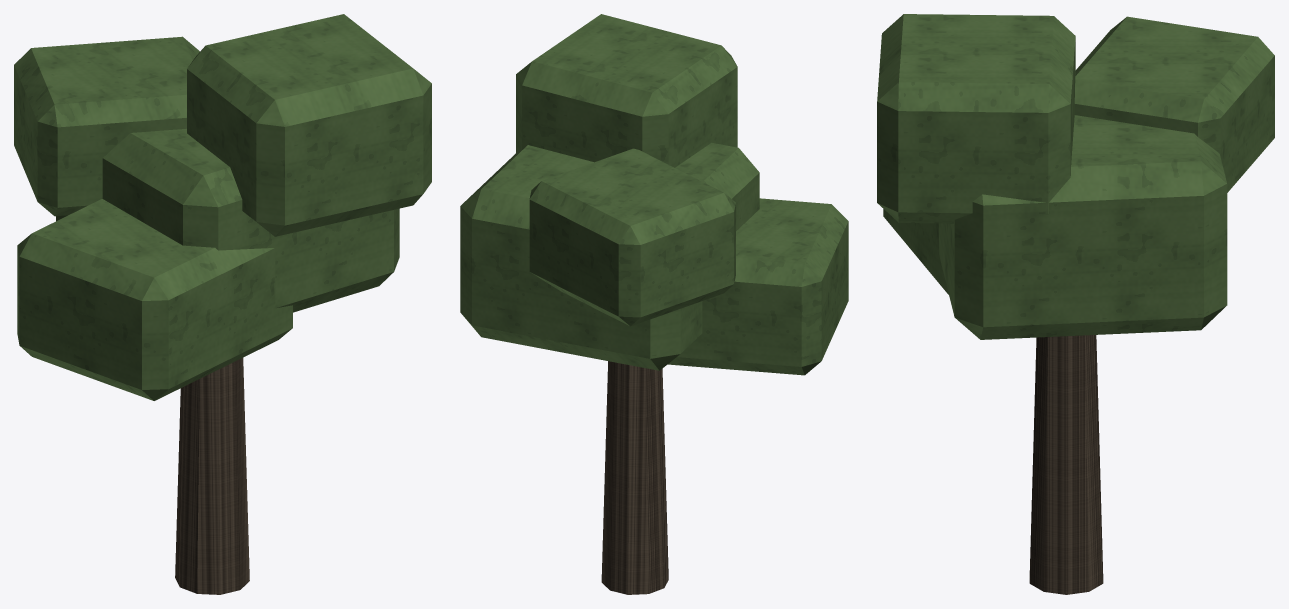
File: oak_tree_c.glb
The picture shows the model from 3 angles, left to right: view 1: azimuth 30°, elevation 25°; view 2: azimuth 150°, elevation 25°; view 3: azimuth 270°, elevation 25°; orthographic projection. The views are drawn at different scales.
Parts seen in each view (by area): view 1: OakTreeC; view 2: OakTreeC; view 3: OakTreeC.
Part boxes in pixels (bbox=[...]): OakTreeC: bbox=[14, 14, 431, 594]; OakTreeC: bbox=[460, 14, 848, 594]; OakTreeC: bbox=[877, 14, 1274, 594].
Size of the model in its own units: 2.69 by 4.01 by 2.6.
2 materials, 2 textured.
